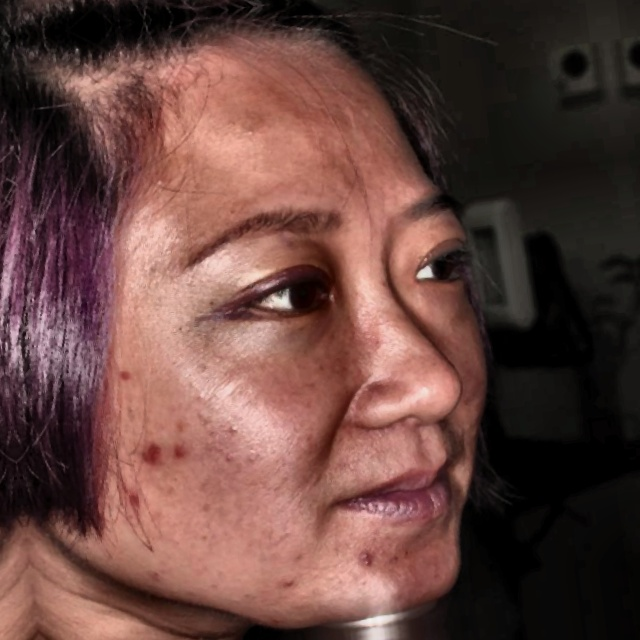comedone: (127, 435, 172, 474), (126, 480, 146, 510), (169, 438, 192, 463), (278, 569, 297, 594), (361, 547, 380, 567)
